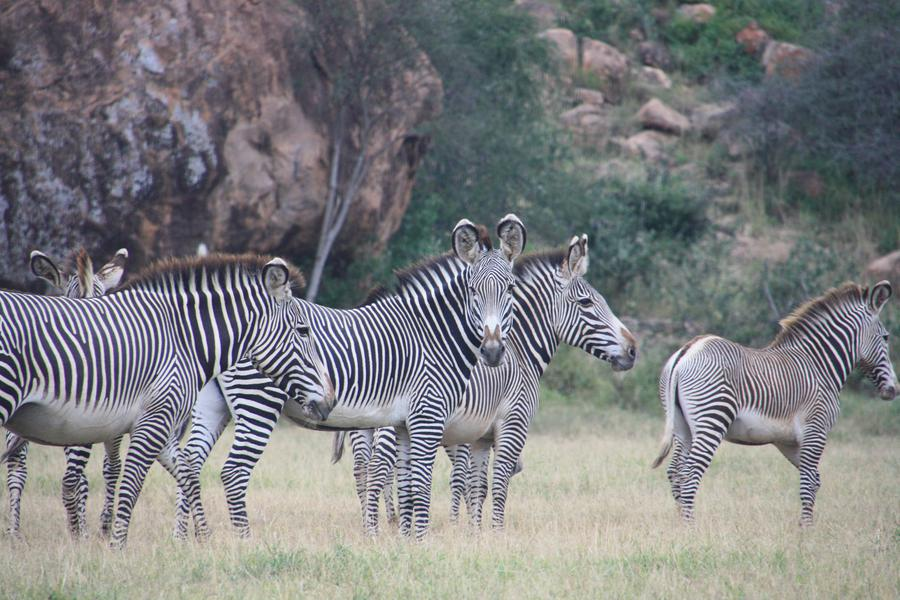zebra_grevys: (3, 281, 171, 433), (685, 326, 836, 438), (312, 297, 445, 419)
